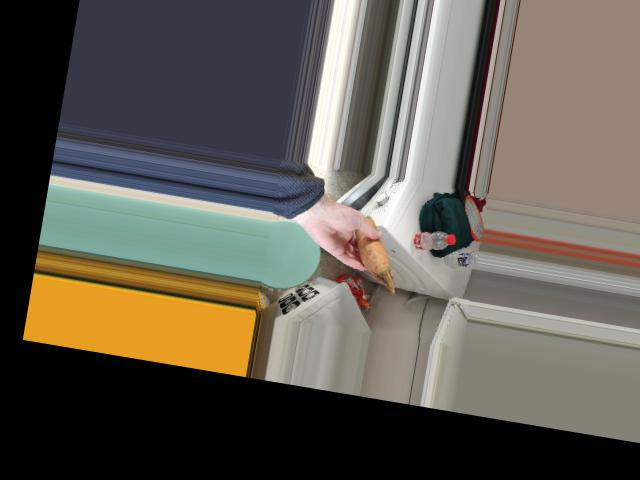sweet_potato: (344, 220, 396, 273)
